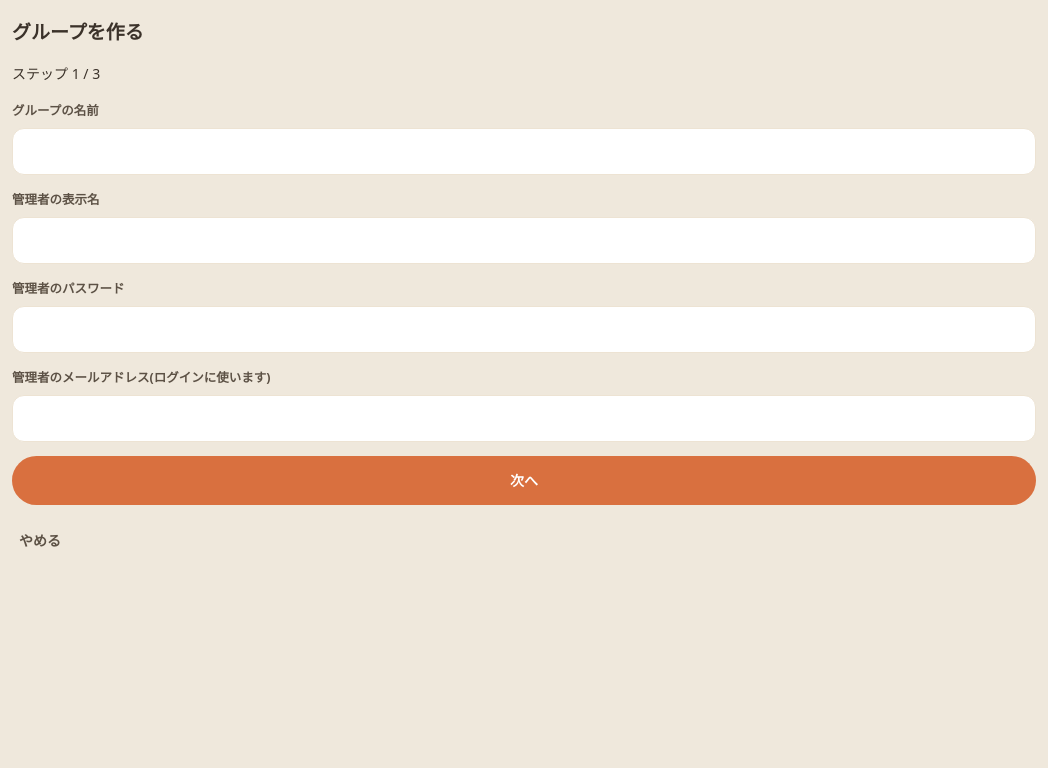
Test: ProvisionWizardView › refuses to move on without the group information
Click the button with test id "next".
click(524, 480)  # box [12, 456, 1036, 505]
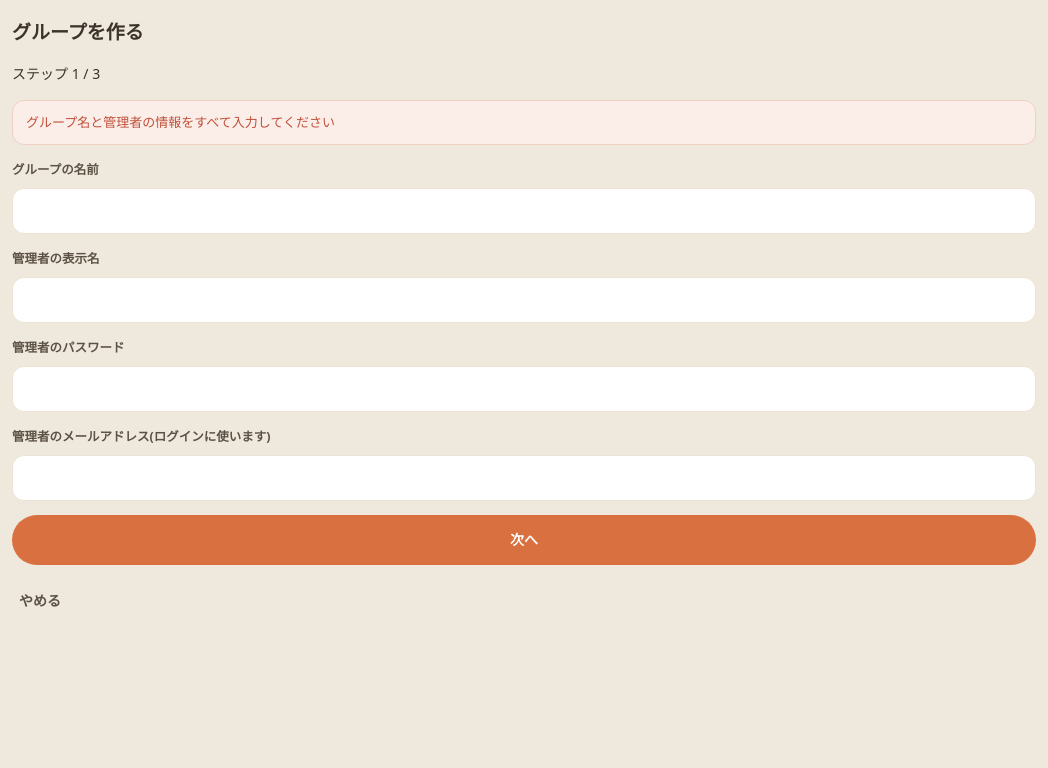
Expected: the field with test id "group-name" is shown, [12, 188, 1036, 234]
Expected: the text "グループ名と管理者の情報をすべて入力してください" is shown, [12, 100, 1036, 145]
